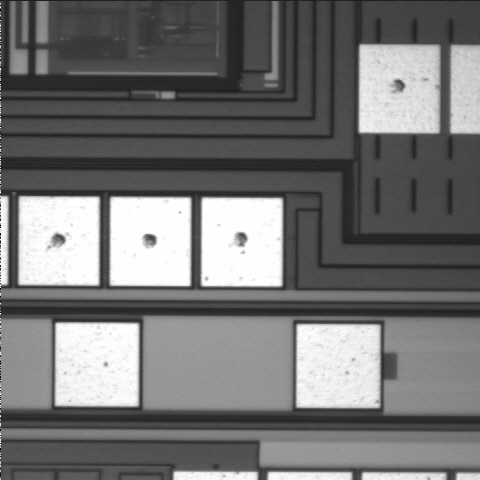pad: (201, 198, 283, 287), (19, 196, 100, 286), (110, 197, 191, 286), (296, 324, 380, 408), (359, 45, 439, 133), (55, 323, 139, 406)
